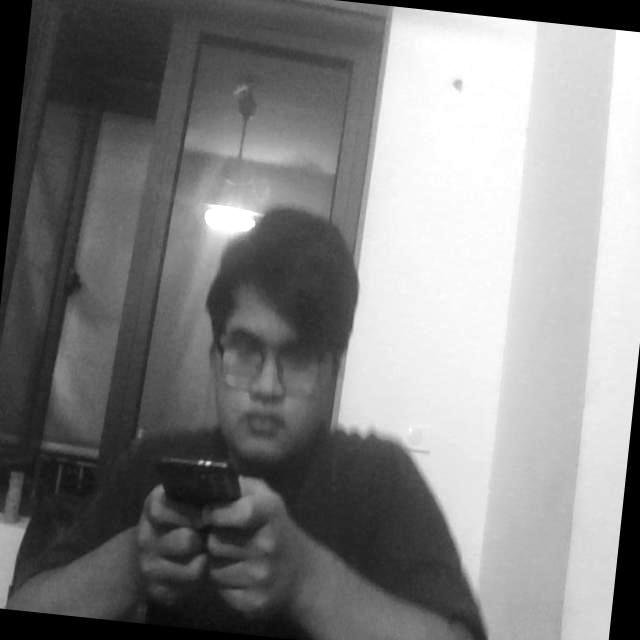phone: (133, 433, 270, 569)
